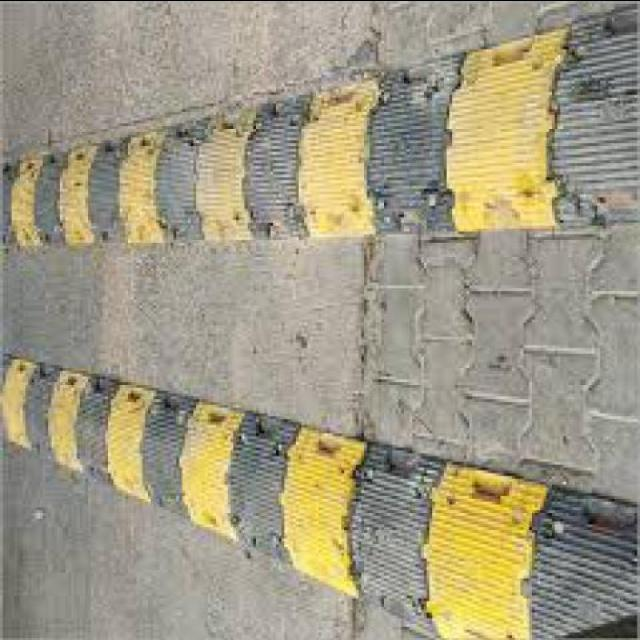Speed_Breaker: (0, 0, 640, 640), (0, 353, 639, 639), (0, 1, 639, 247)
